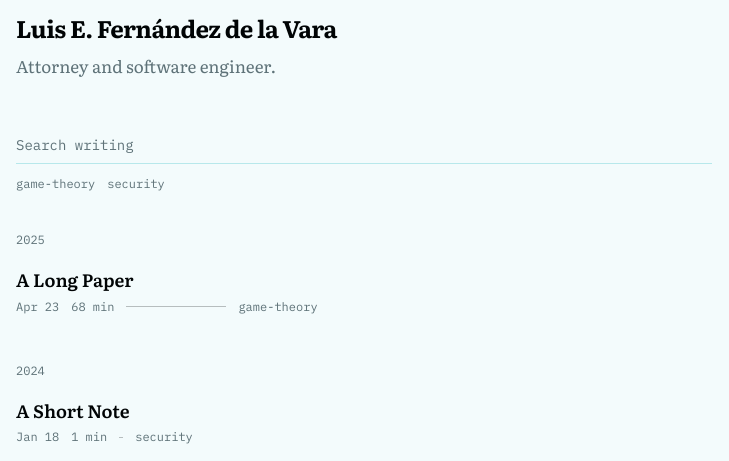
it: Writing › says so when nothing matches, rather than showing an empty page
The width and height of the screenshot is (729, 461).
Expected: the heading "A Long Paper" is shown, [16,266,134,293]
Type "zzzz" into the search field labelled "Search writing" at [364, 149], box [16,135,712,164]
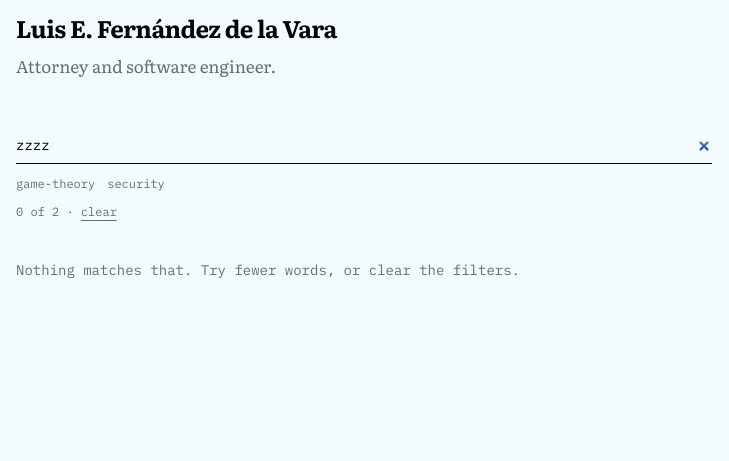
Now the text "Nothing matches that. Try fewer words, or clear the filters." is shown, box [16,261,520,279]
